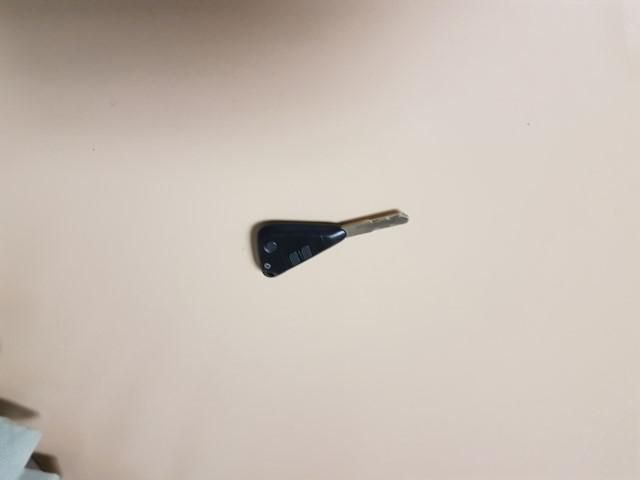key: (258, 207, 410, 279)
